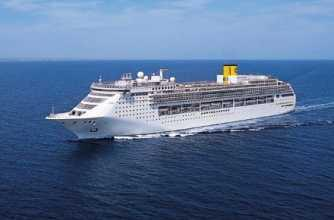youlun: (46, 58, 304, 138)
